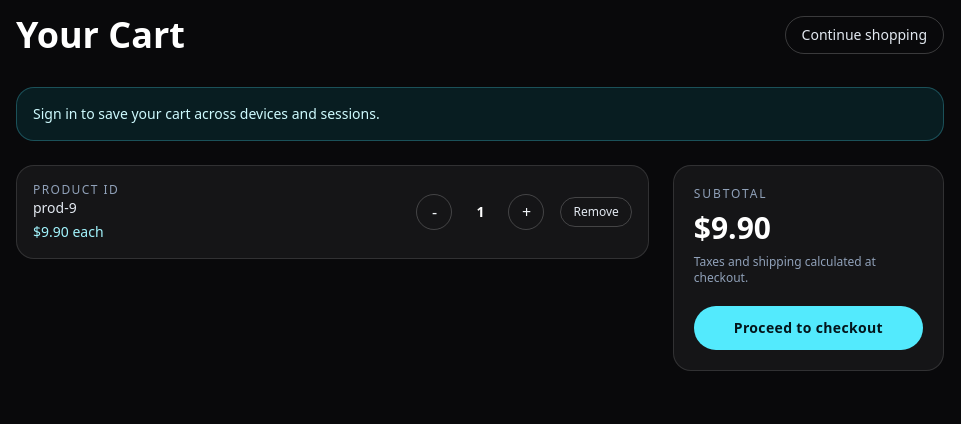
Test: CartClient › updates quantity and shows confirmation message
Expected: the text "prod-9" is shown, top-left (33, 198), bottom-right (77, 217)
Click the button "+": (526, 212) top-left (508, 194), bottom-right (544, 230)
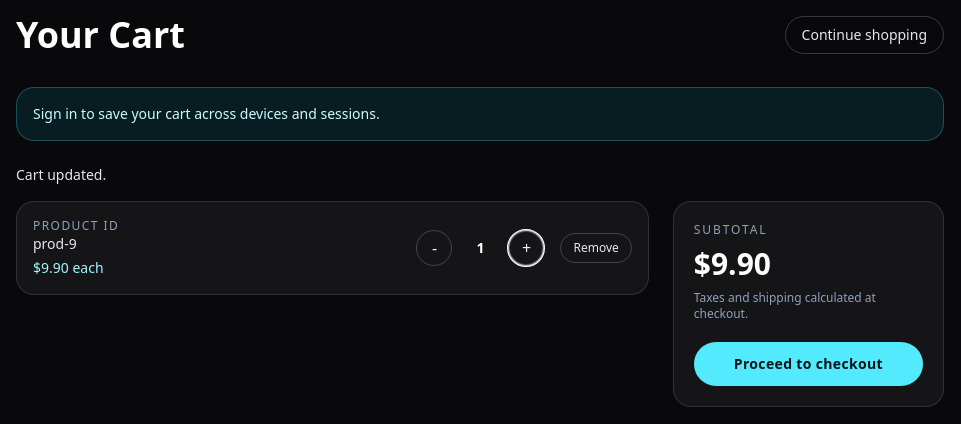
Result: the text "Cart updated." is shown at top-left (16, 165), bottom-right (106, 184)
